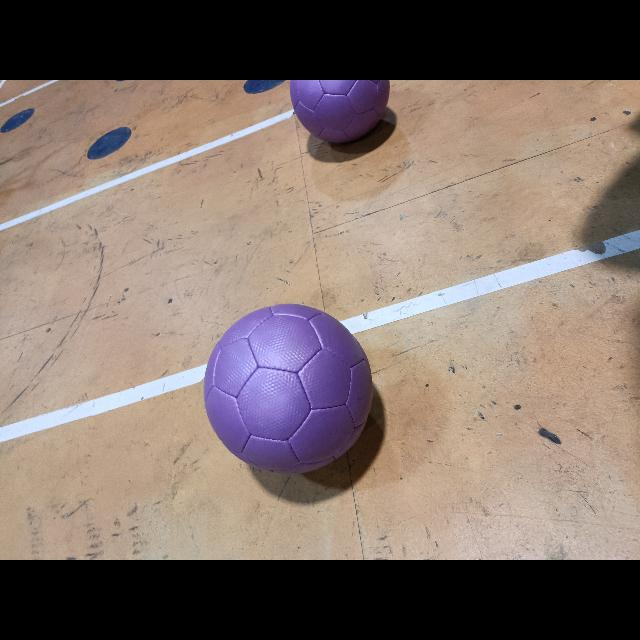P: (204, 303, 372, 473), (290, 80, 390, 144)
